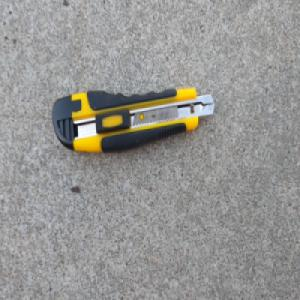Cutter: (51, 83, 215, 153)
